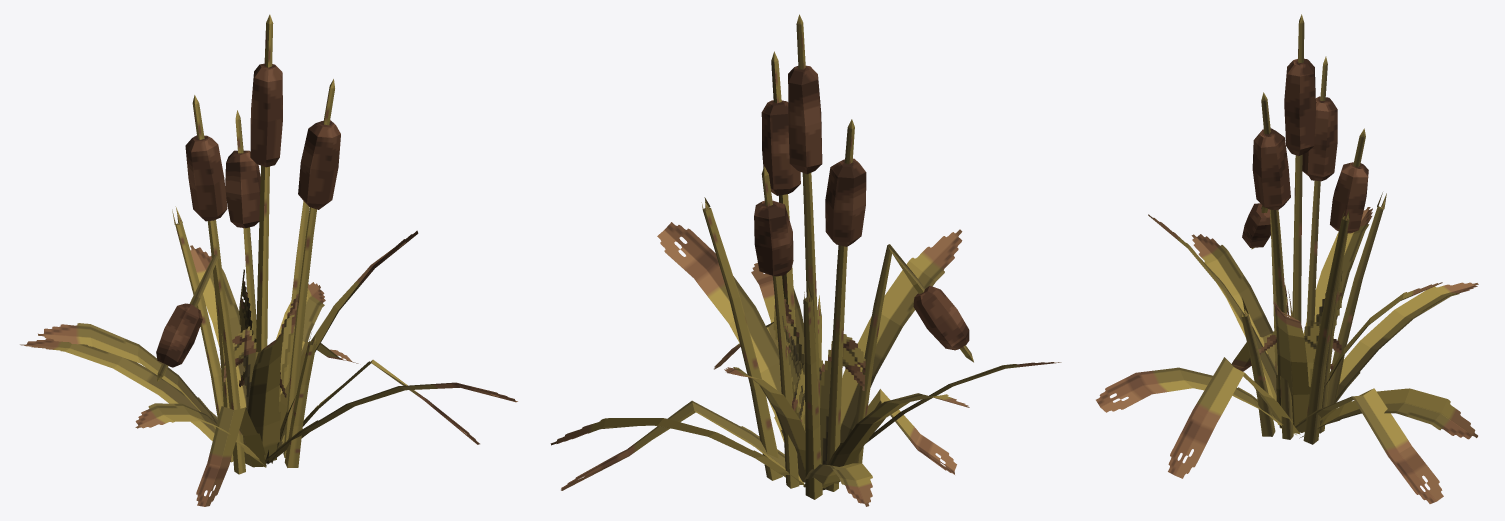
File: SM_SW02_CattailShortBroken.fbx
3 views of the same model, side by side, from view 1: azimuth 30°, elevation 25°; view 2: azimuth 150°, elevation 25°; view 3: azimuth 270°, elevation 25° (orthographic). The views are drawn at different scales.
Parts seen in each view (by area): view 1: SW02b_Plants, SW02b_Props; view 2: SW02b_Plants, SW02b_Props; view 3: SW02b_Plants, SW02b_Props.
Part boxes in pixels (x1=…): SW02b_Plants: x1=20, y1=14, x2=517, y2=506; SW02b_Props: x1=156, y1=63, x2=340, y2=367; SW02b_Plants: x1=550, y1=14, x2=1061, y2=506; SW02b_Props: x1=754, y1=65, x2=969, y2=350; SW02b_Plants: x1=1096, y1=14, x2=1478, y2=503; SW02b_Props: x1=1242, y1=58, x2=1368, y2=247.
Size of the model in its own units: 1.04 by 1.21 by 1.04.
